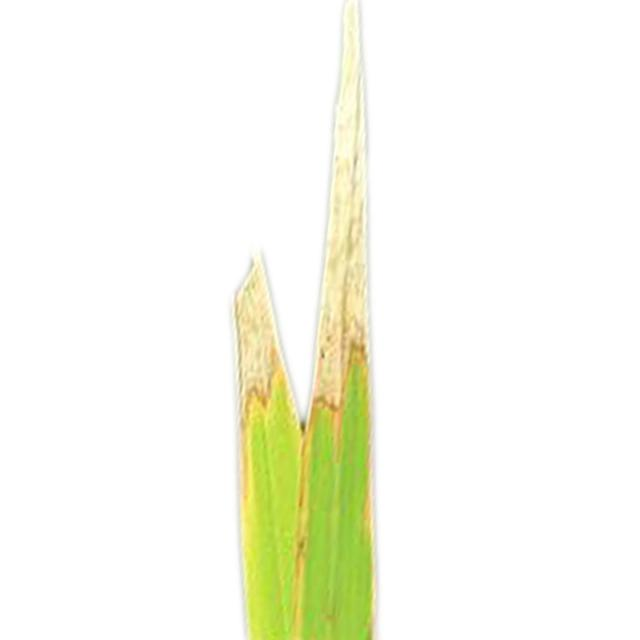Leaf scald: (124, 0, 480, 640)
